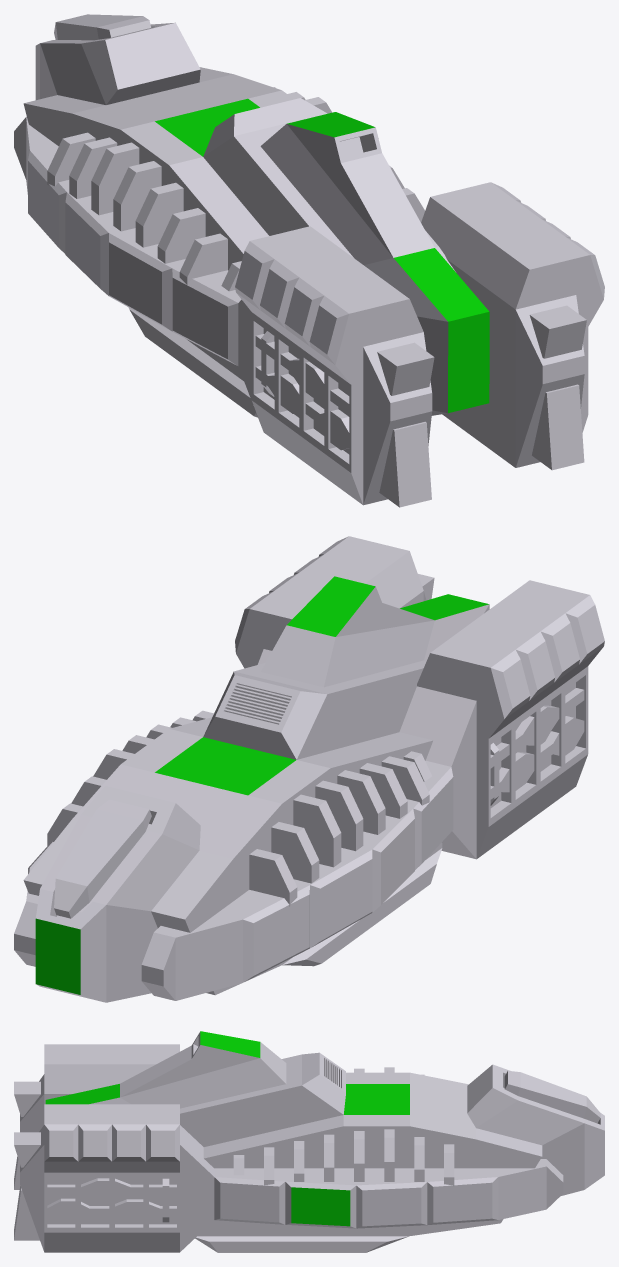
The model's file is hull.fish.fbx.
3 views of the same model, one above another, from view 1: azimuth 30°, elevation 25°; view 2: azimuth 150°, elevation 25°; view 3: azimuth 270°, elevation 25° (orthographic). The views are drawn at different scales.
Visible parts, largest first — view 1: hull.fish; view 2: hull.fish; view 3: hull.fish.
Part boxes in pixels (box(x1,y1,x2,y2)): hull.fish: box(14, 14, 604, 507); hull.fish: box(14, 536, 604, 1002); hull.fish: box(14, 1031, 604, 1252).
Bounding box in the file's own units: 2.06 × 1.96 × 5.58.
